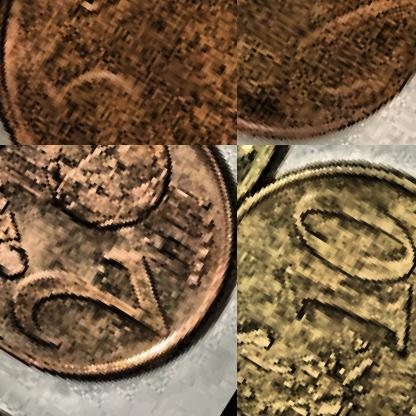coin: (0, 145, 236, 415), (237, 145, 415, 415), (0, 0, 236, 144), (237, 0, 415, 144)
